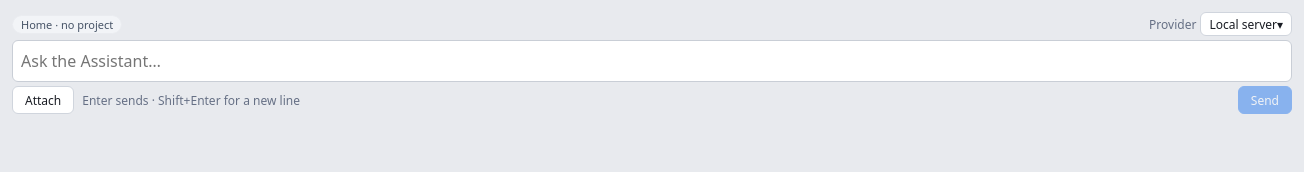
typing and sending › a refusal shows the server's words; the draft stays; a stale link goes once more with a fresh one
Type "Hello" into the text box named "Message to the Assistant" at (652, 61), box [12,40,1292,82]
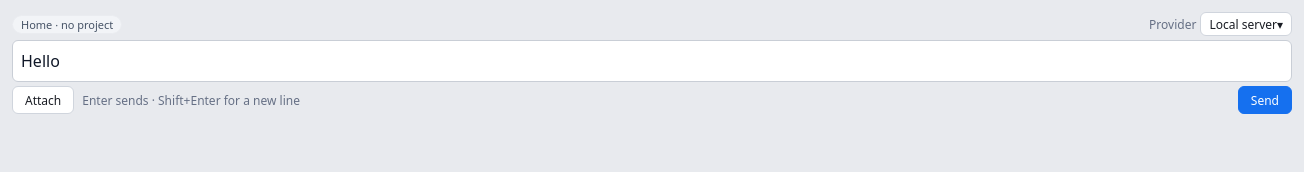
Click the button "Send" at (1265, 100), box [1238,86,1292,114]
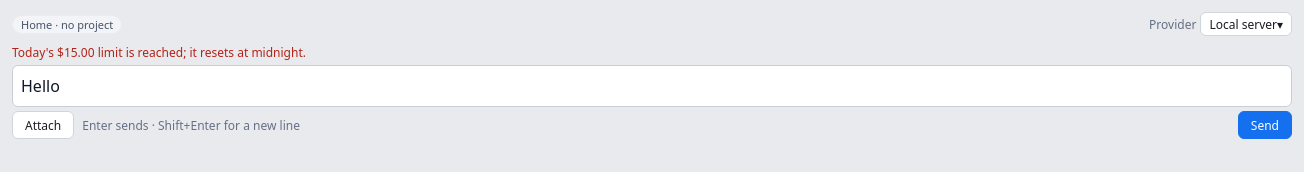
Check: the message reads "Today's $15.00 limit is reached; it resets at midnight.", box [12,44,306,61]
